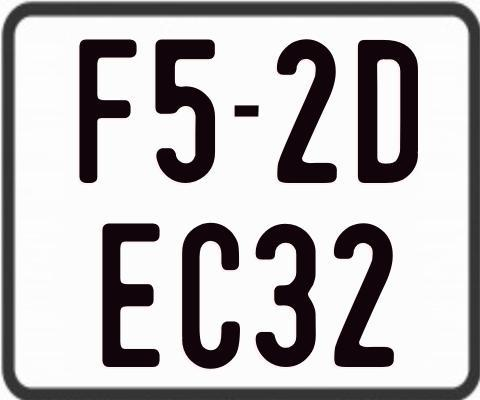2: (276, 38, 342, 185), (332, 223, 394, 369)
3: (253, 223, 313, 368)
5: (155, 39, 217, 188)
C: (180, 222, 243, 369)
D: (358, 39, 419, 188)
E: (102, 220, 162, 370)
F: (79, 38, 140, 183)
